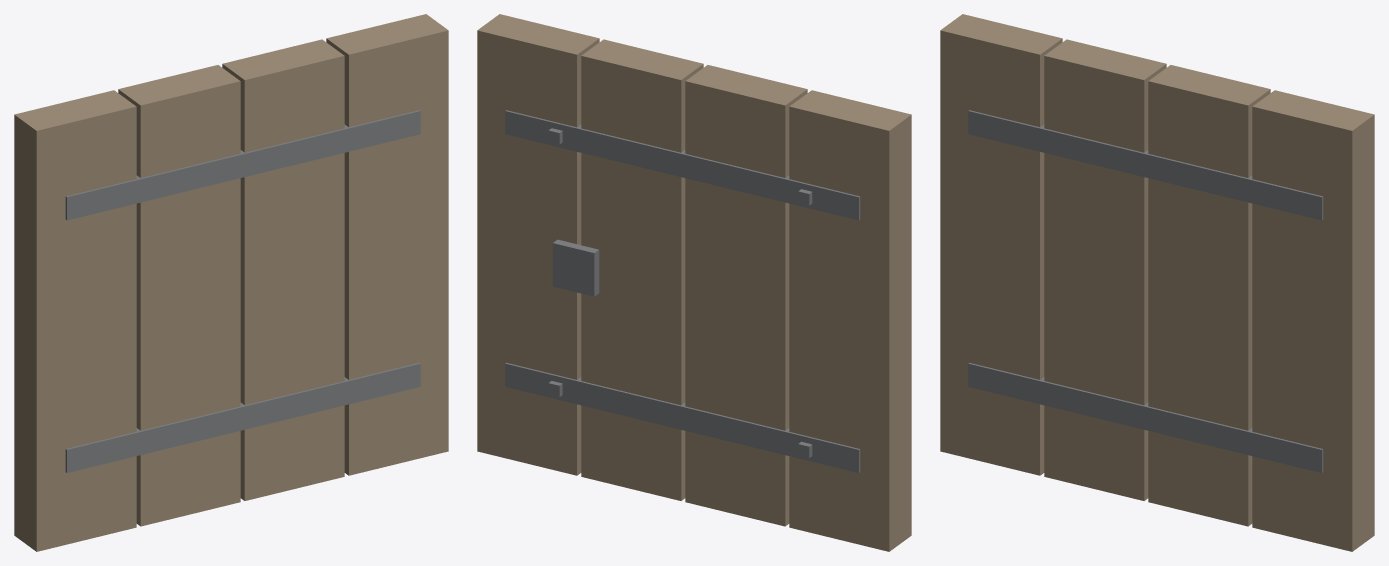
File: gate_door.glb
The picture shows the model from 3 angles, left to right: view 1: azimuth 30°, elevation 25°; view 2: azimuth 150°, elevation 25°; view 3: azimuth 330°, elevation 25°; orthographic projection.
Visible parts, largest first — view 1: DoorPlank0, DoorPlank3, DoorPlank2, DoorPlank1, DoorStrap_0.87, DoorStrap_-0.87; view 2: DoorPlank0, DoorPlank3, DoorPlank1, DoorPlank2, DoorStrap_0.87, DoorStrap_-0.87, DoorHandle; view 3: DoorPlank3, DoorPlank0, DoorPlank1, DoorPlank2, DoorStrap_0.87, DoorStrap_-0.87.
Boxes of the visible parts, x1,y1,x2,y2 form: DoorPlank0: (14, 90, 136, 551); DoorPlank3: (326, 14, 448, 475); DoorPlank2: (222, 39, 344, 500); DoorPlank1: (118, 65, 240, 526); DoorStrap_0.87: (65, 110, 420, 220); DoorStrap_-0.87: (65, 363, 420, 472); DoorPlank0: (789, 90, 911, 551); DoorPlank3: (477, 14, 599, 475); DoorPlank1: (685, 65, 807, 526); DoorPlank2: (581, 39, 703, 500); DoorStrap_0.87: (505, 110, 860, 220); DoorStrap_-0.87: (505, 363, 860, 472); DoorHandle: (552, 239, 599, 296); DoorPlank3: (1252, 90, 1374, 551); DoorPlank0: (940, 14, 1062, 475); DoorPlank1: (1044, 39, 1166, 500); DoorPlank2: (1148, 65, 1270, 526); DoorStrap_0.87: (968, 110, 1323, 220); DoorStrap_-0.87: (968, 363, 1323, 472).
Bounding box in the file's own units: 2.97 × 2.9 × 0.365.
